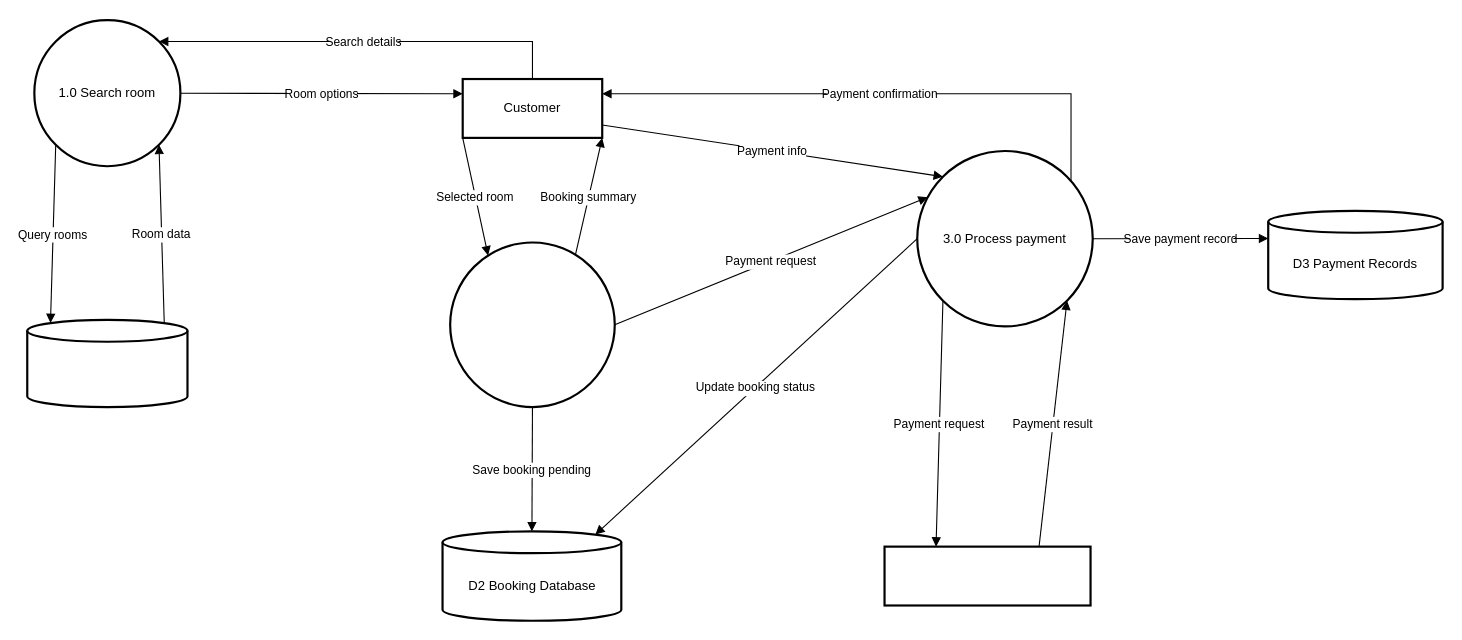
Image size: 1462x640. Some labels were removed from this diagram. Each missing label, with the box of its shape:
2.0 Create booking: (449, 241, 615, 408)
D1 Room Database: (26, 318, 188, 408)
Payment Gateway: (883, 545, 1091, 606)
